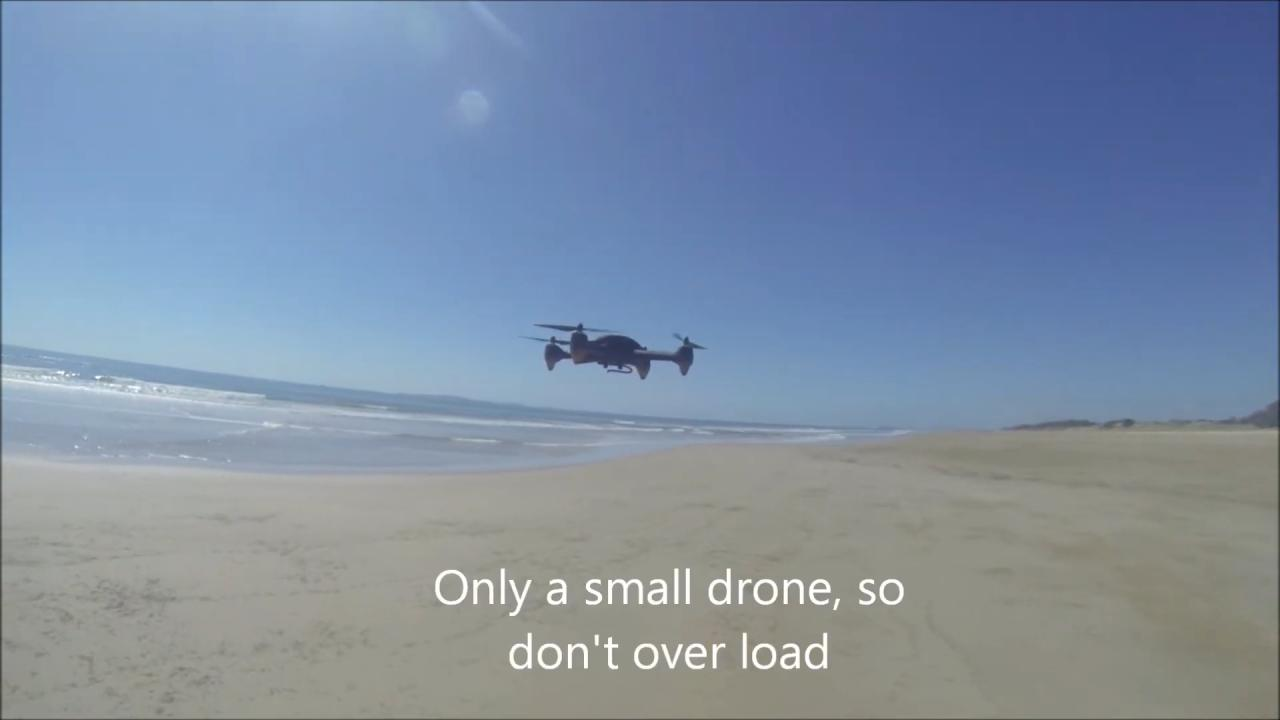Drone: (510, 312, 714, 396)
